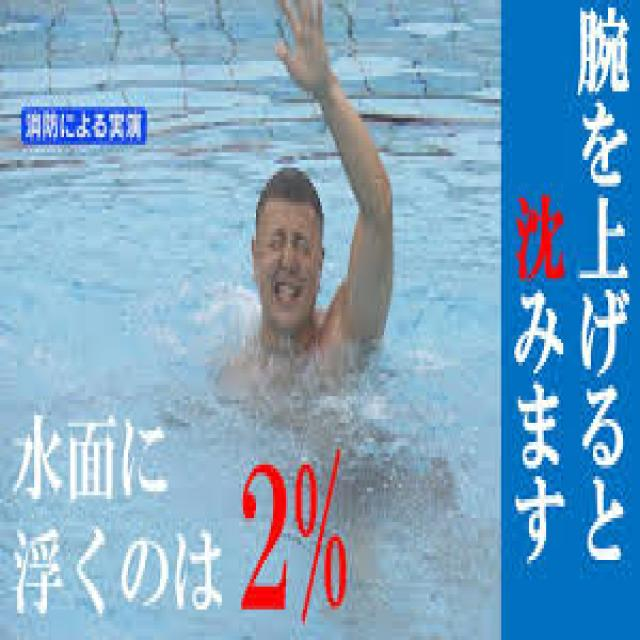Drowning: (206, 21, 414, 424)
